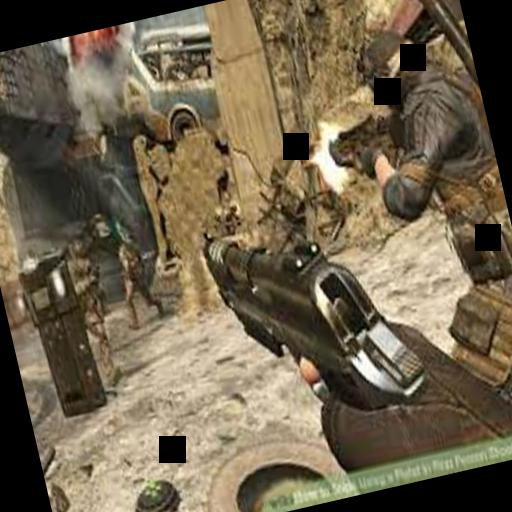Handgun: (183, 182, 433, 450)
